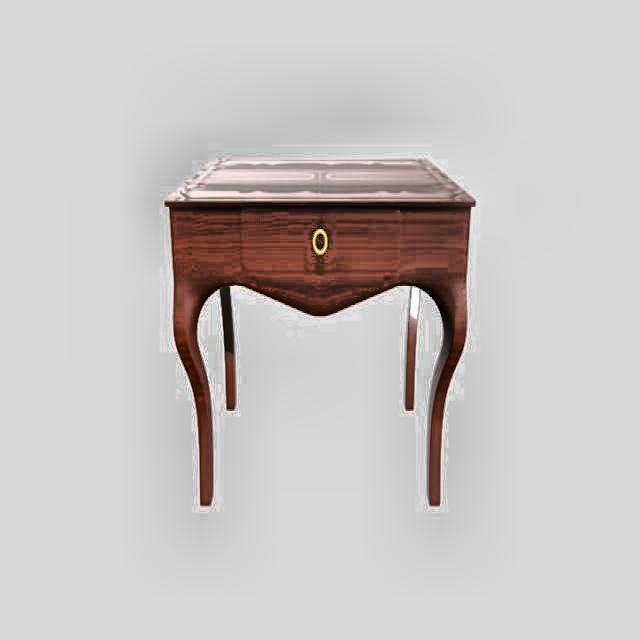mesa: (166, 153, 479, 509)
